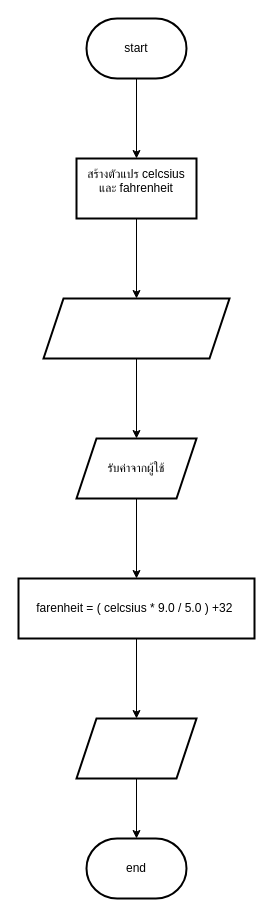
Image size: 272x916. Some labels were removed from this diagram. Each missing label, with the box of its shape:
แสดงคำว่า User Input: (42, 297, 230, 359)
แสดงผลลัพธ์: (75, 717, 197, 779)
